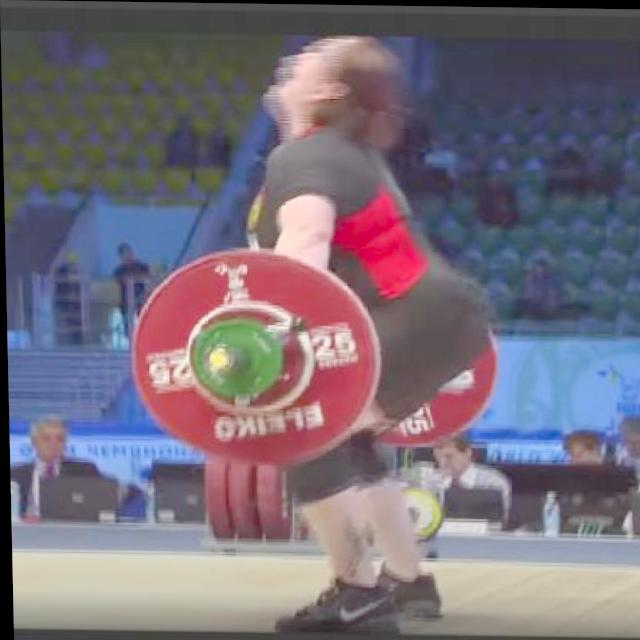barbell: (126, 238, 381, 472)
